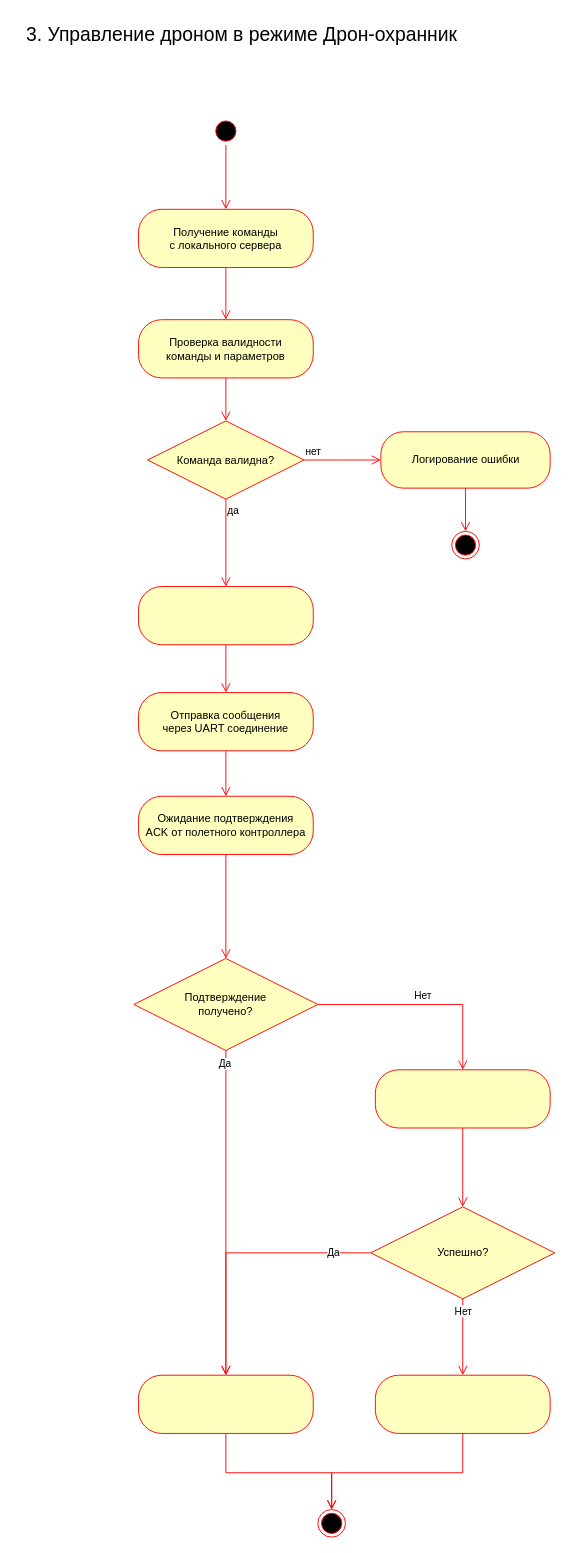
The diagram is 570 pixels wide and 1553 high, and some of its shapes have lost their labels. The shapes that lost their labels are listed below. From the top down, each one's box as (x1, y1, x2, y2) in pixels, then its label:
(138, 586, 313, 645): Формирование MAVLink сообщения
(374, 1069, 550, 1128): Повторная отправка макс. 3 попытки
(138, 1374, 313, 1433): Логирование успешного выполнения команды
(374, 1374, 550, 1433): Запись ошибки в лог и уведомление оператора
